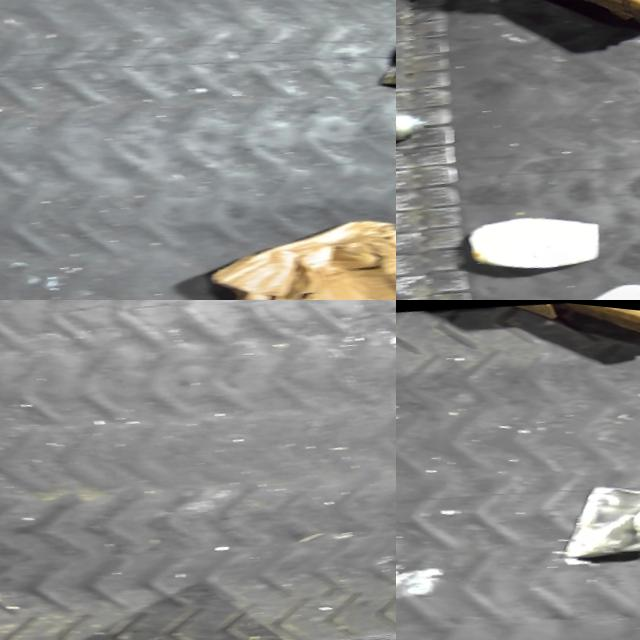can: (552, 459, 640, 565), (396, 90, 435, 168), (374, 23, 396, 77)
